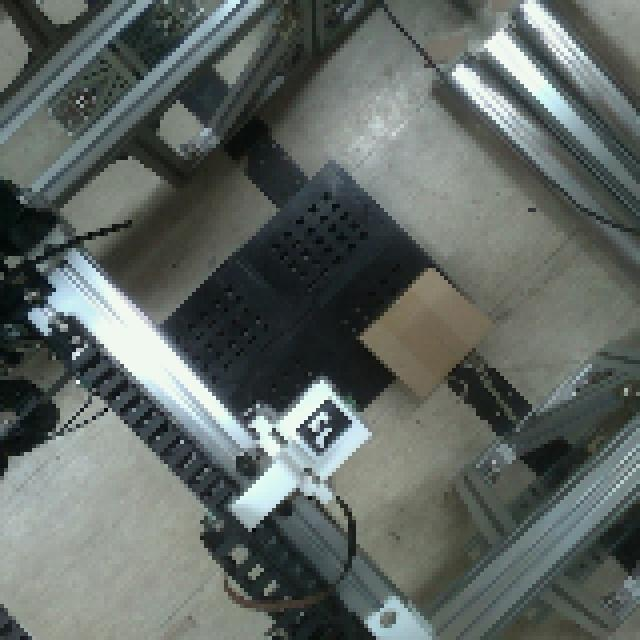box: (353, 259, 505, 410)
